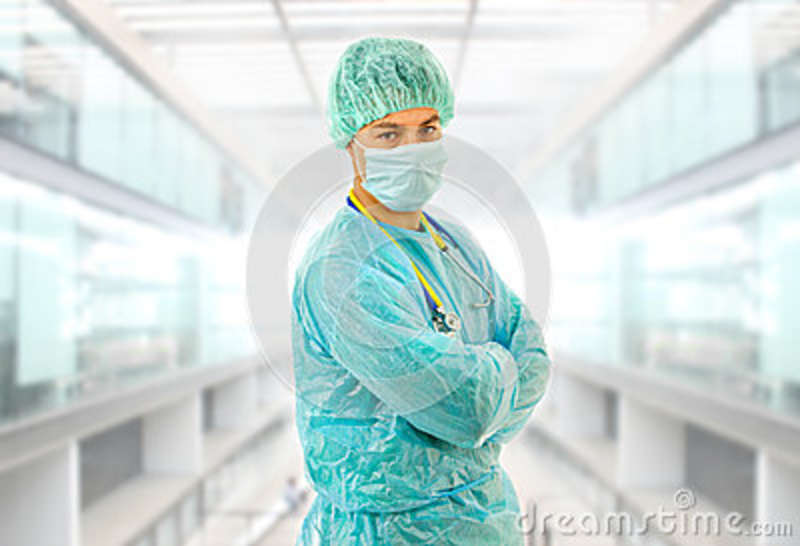mask: (362, 142, 454, 212)
